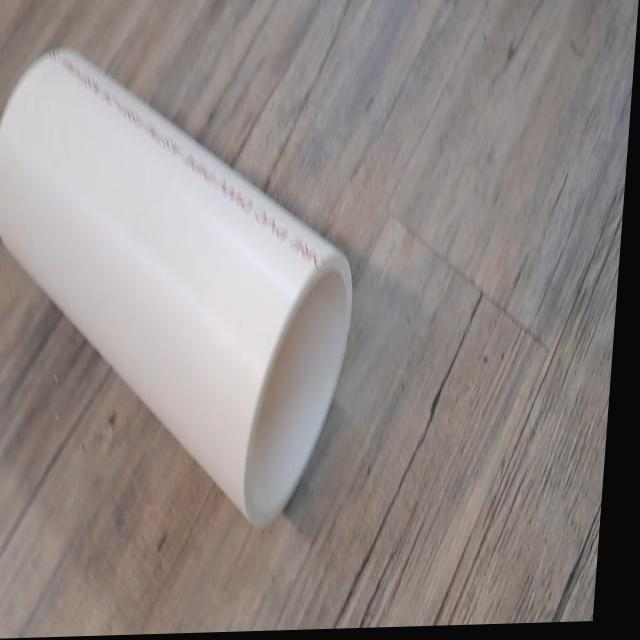CORAL: (0, 26, 385, 541)
